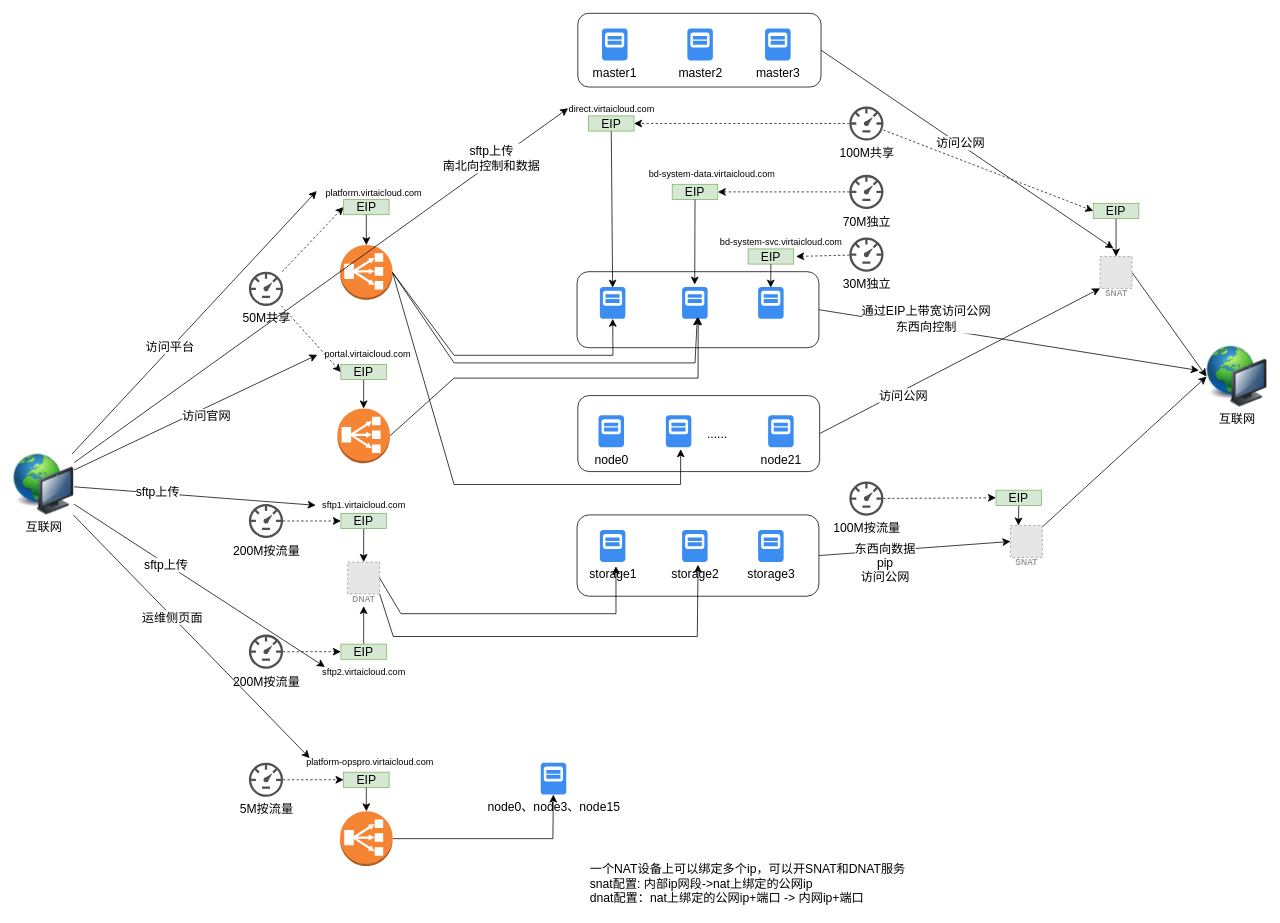
The diagram is 1280 pixels wide and 923 high, and some of its shapes have lost their labels. Grey dashed boxes stand in for pictures. The centre of each missing label's shape, as x and y in pixels:
"compute1" goes at (612,302).
"compute2" goes at (694,302).
"compute3" goes at (770,302).
"node15" goes at (678,431).
"官网LB" goes at (363,435).
"平台入口LB" goes at (366,272).
"运维侧LB" goes at (366,838).
